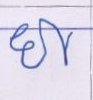i_matra: (42, 16, 73, 66)
